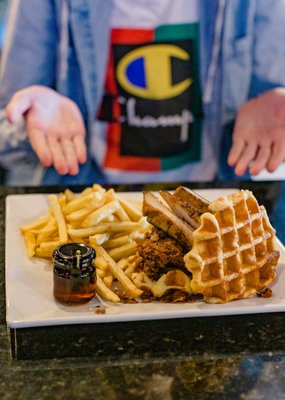curry: (2, 183, 285, 395)
